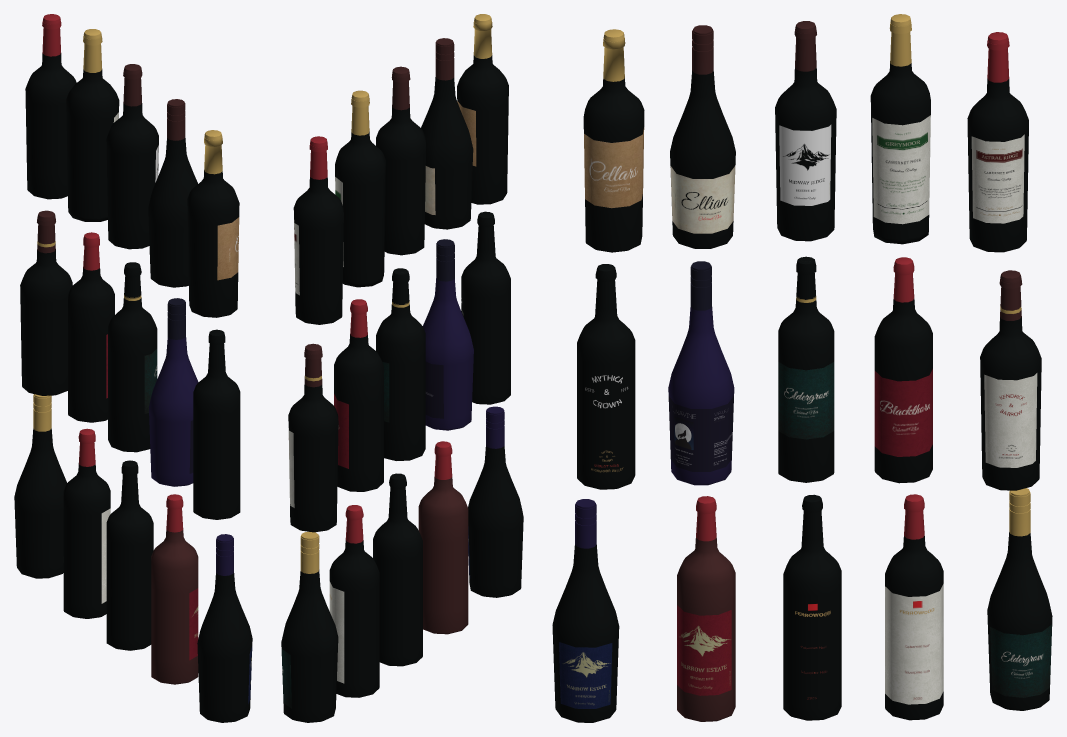
Rendered from Wine_Bottles.fbx.
3 renders of one model, left to right at view 1: azimuth 30°, elevation 25°; view 2: azimuth 150°, elevation 25°; view 3: azimuth 270°, elevation 25°, orthographic. The views are drawn at different scales.
Visible parts, largest first — view 1: Wine_Bottle, Wine_Bottle.005, Wine_Bottle.011, Wine_Bottle.010, Wine_Bottle.012, Wine_Bottle.007, Wine_Bottle.009, Wine_Bottle.013, Wine_Bottle.003, Wine_Bottle.002, Wine_Bottle.014, Wine_Bottle.008 (+3 smaller); view 2: Wine_Bottle.014, Wine_Bottle.010, Wine_Bottle.008, Wine_Bottle.011, Wine_Bottle.013, Wine_Bottle.009, Wine_Bottle.004, Wine_Bottle.003, Wine_Bottle.012, Wine_Bottle.007, Wine_Bottle.006, Wine_Bottle.005 (+3 smaller); view 3: Wine_Bottle.003, Wine_Bottle.008, Wine_Bottle.005, Wine_Bottle.012, Wine_Bottle.011, Wine_Bottle.013, Wine_Bottle, Wine_Bottle.007, Wine_Bottle.010, Wine_Bottle.009, Wine_Bottle.004, Wine_Bottle.002 (+3 smaller).
Part boxes in pixels (left/top/right/bottom): Wine_Bottle: left=187, top=130, right=239, bottom=317; Wine_Bottle.005: left=193, top=329, right=240, bottom=519; Wine_Bottle.011: left=151, top=494, right=198, bottom=684; Wine_Bottle.010: left=197, top=534, right=252, bottom=722; Wine_Bottle.012: left=106, top=460, right=153, bottom=650; Wine_Bottle.007: left=108, top=262, right=157, bottom=452; Wine_Bottle.009: left=20, top=210, right=72, bottom=395; Wine_Bottle.013: left=63, top=428, right=110, bottom=618; Wine_Bottle.003: left=66, top=29, right=119, bottom=221; Wine_Bottle.002: left=106, top=64, right=158, bottom=249; Wine_Bottle.014: left=14, top=394, right=66, bottom=578; Wine_Bottle.008: left=68, top=232, right=114, bottom=422; Wine_Bottle.014: left=281, top=531, right=338, bottom=722; Wine_Bottle.010: left=468, top=406, right=523, bottom=597; Wine_Bottle.008: left=334, top=299, right=383, bottom=491; Wine_Bottle.011: left=418, top=441, right=468, bottom=634; Wine_Bottle.013: left=329, top=505, right=379, bottom=697; Wine_Bottle.009: left=288, top=343, right=338, bottom=532; Wine_Bottle.004: left=293, top=136, right=343, bottom=324; Wine_Bottle.003: left=335, top=90, right=385, bottom=287; Wine_Bottle.012: left=373, top=473, right=422, bottom=666; Wine_Bottle.007: left=376, top=268, right=425, bottom=460; Wine_Bottle.006: left=422, top=239, right=473, bottom=430; Wine_Bottle.005: left=461, top=211, right=510, bottom=404; Wine_Bottle.003: left=870, top=14, right=930, bottom=244; Wine_Bottle.008: left=874, top=257, right=932, bottom=483; Wine_Bottle.005: left=577, top=264, right=635, bottom=489; Wine_Bottle.012: left=783, top=494, right=841, bottom=720; Wine_Bottle.011: left=677, top=496, right=735, bottom=721; Wine_Bottle.013: left=885, top=494, right=943, bottom=720; Wine_Bottle: left=583, top=29, right=644, bottom=252; Wine_Bottle.007: left=778, top=256, right=834, bottom=482; Wine_Bottle.010: left=552, top=499, right=619, bottom=722; Wine_Bottle.009: left=980, top=270, right=1041, bottom=490; Wine_Bottle.004: left=967, top=32, right=1028, bottom=252; Wine_Bottle.002: left=775, top=21, right=836, bottom=241.
Size of the model in its own units: 42.98 by 488 by 317.
Materials: 2 (2 with a texture image).
